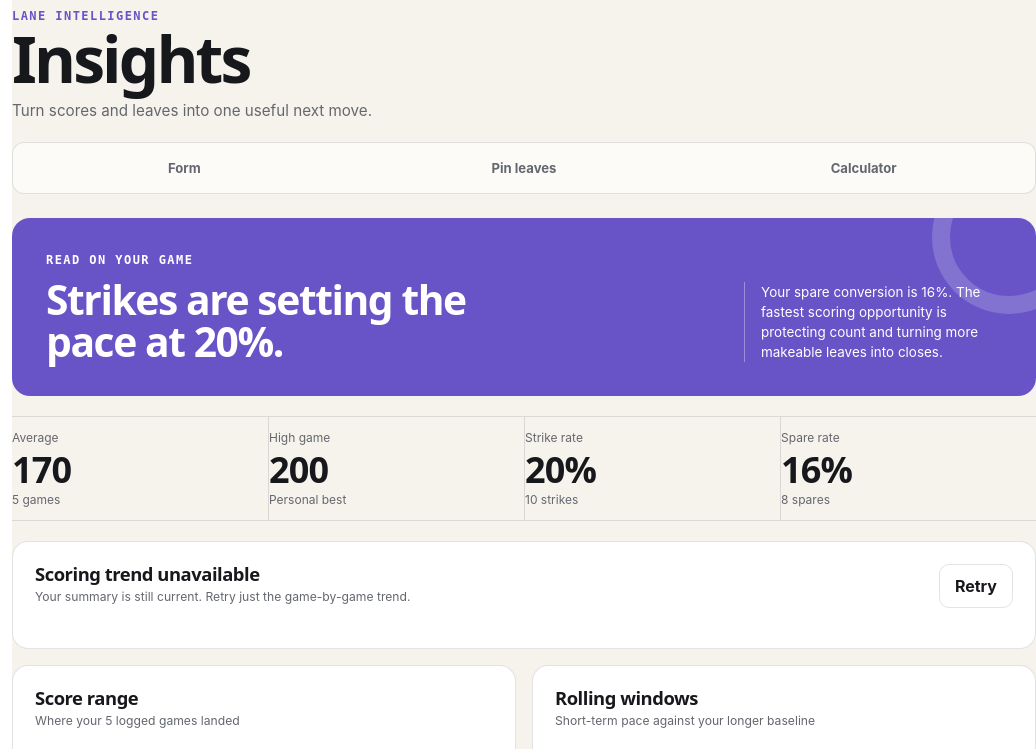
Test case: Insights pages › marks the trend retry busy without blocking the scoring summary
Click the button "Retry" at (976, 586), box 939,564 -> 1013,608
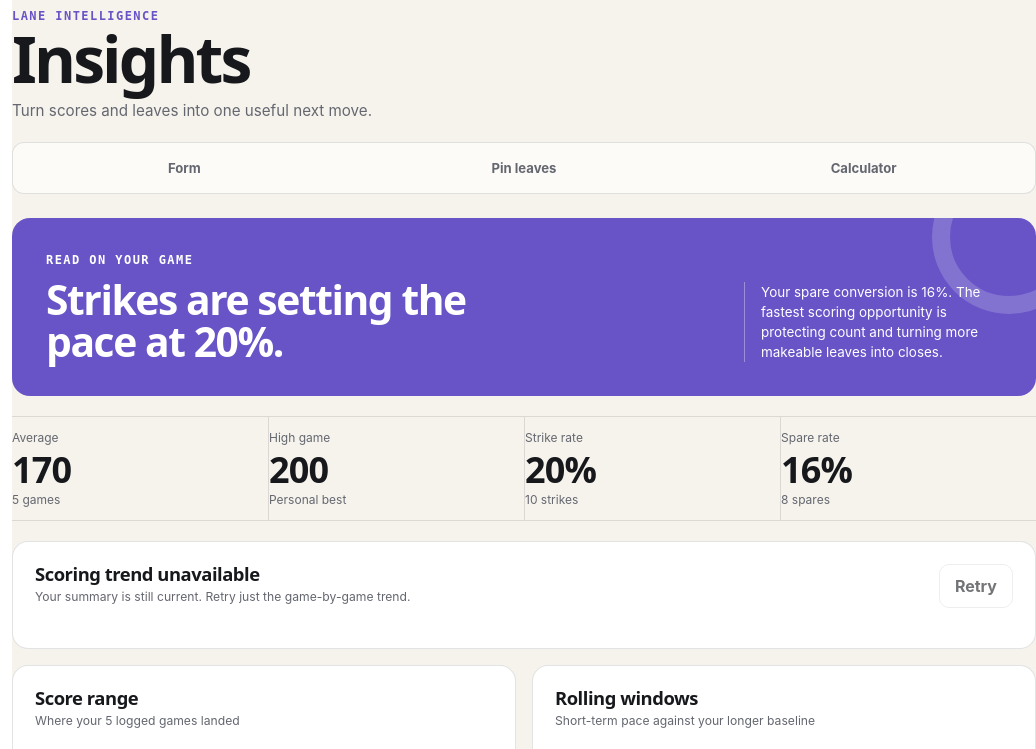
Check: the element named "Scoring summary" is shown, box 12,416 -> 1035,521
Check: the button "Retry" is disabled, box 939,564 -> 1013,608
